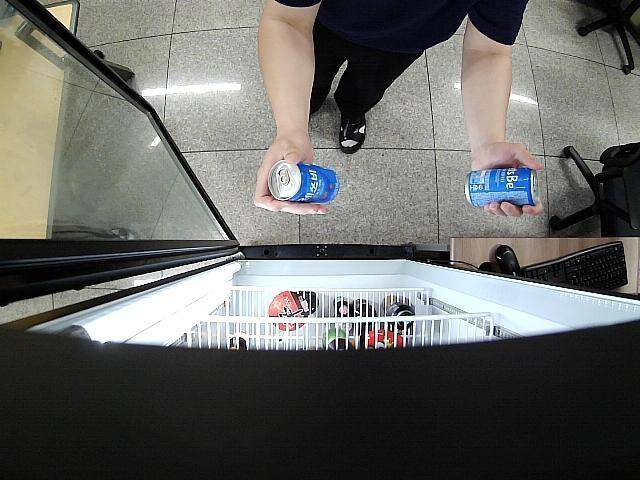15_letsbe: (270, 161, 340, 206), (464, 168, 539, 207)
